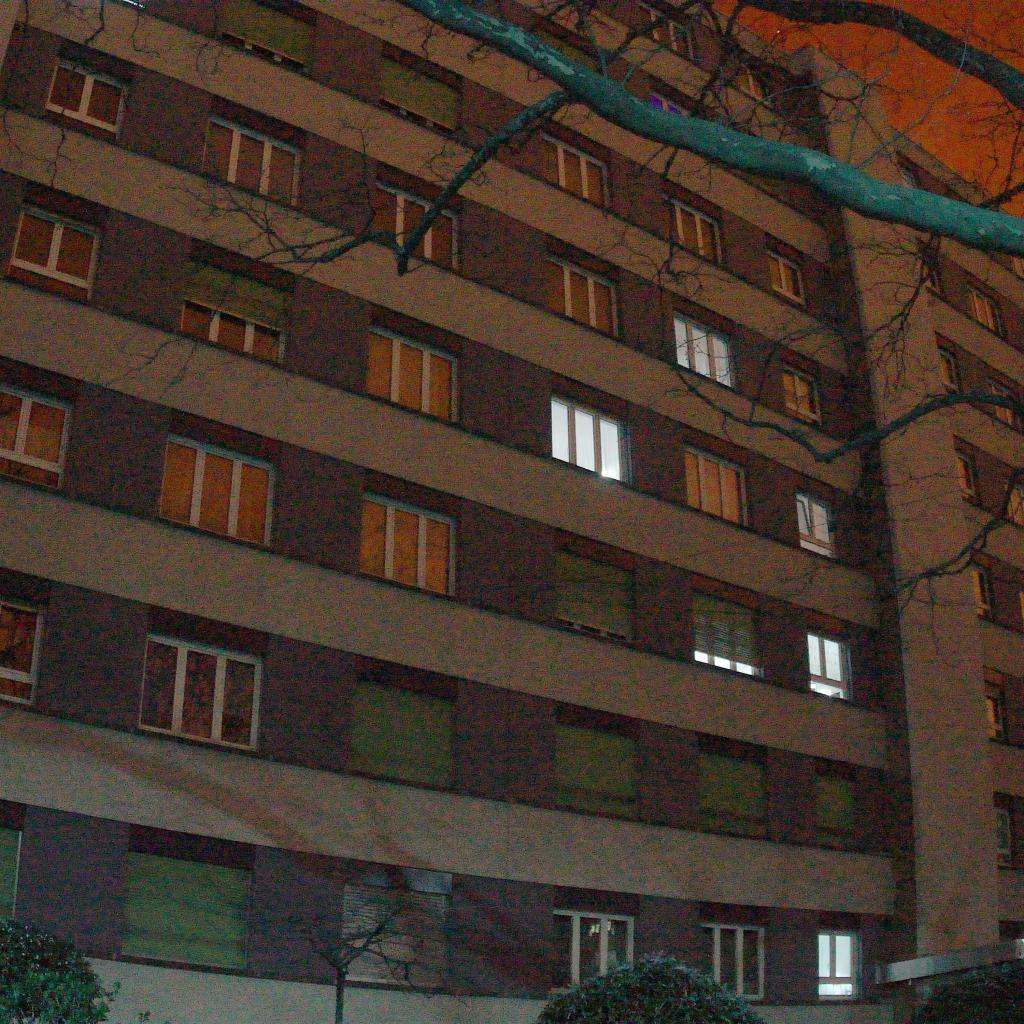non-building-infrastructure: (874, 934, 1024, 1024)
vegetation: (278, 884, 482, 1024), (529, 948, 771, 1024), (0, 910, 149, 1024), (908, 960, 1024, 1024)
window: (119, 846, 255, 972), (137, 630, 264, 752), (155, 430, 277, 549), (177, 253, 294, 370), (346, 674, 461, 791), (338, 883, 452, 993), (355, 487, 460, 600), (199, 105, 307, 211), (362, 319, 460, 426), (5, 198, 102, 302), (370, 173, 462, 273), (553, 547, 639, 648), (555, 721, 640, 823), (0, 378, 75, 493), (39, 52, 132, 144), (549, 389, 635, 488), (378, 41, 461, 141), (548, 908, 635, 1002), (216, 0, 320, 77), (543, 243, 622, 341), (690, 587, 764, 681), (680, 439, 754, 531), (699, 750, 768, 842), (538, 129, 610, 212), (0, 593, 48, 711), (672, 308, 737, 391), (662, 189, 723, 267), (705, 923, 765, 1001), (804, 623, 857, 706), (810, 775, 864, 852), (971, 558, 1024, 635), (794, 484, 842, 563), (640, 2, 697, 66), (816, 929, 864, 1001), (779, 357, 824, 432), (647, 85, 691, 153), (765, 244, 809, 310), (984, 680, 1024, 746), (0, 822, 22, 919), (994, 805, 1024, 871), (987, 376, 1021, 432), (740, 53, 773, 107), (970, 287, 1001, 333), (955, 450, 979, 504), (1004, 478, 1024, 527), (937, 348, 959, 389), (921, 255, 943, 295), (901, 168, 920, 191)
